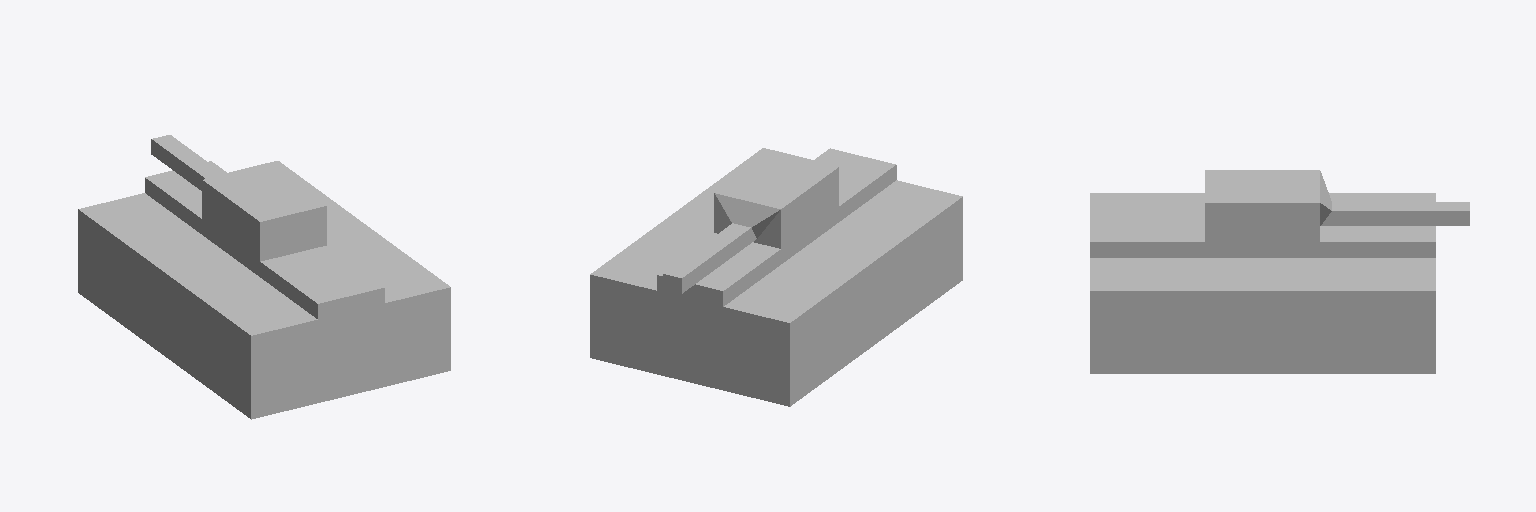
Rendered from Tank.obj.
3 renders of one model, left to right at view 1: azimuth 30°, elevation 25°; view 2: azimuth 150°, elevation 25°; view 3: azimuth 270°, elevation 25°, orthographic.
Visible parts, largest first — view 1: Tank_Cube.001; view 2: Tank_Cube.001; view 3: Tank_Cube.001.
Boxes of the visible parts, <box> form: Tank_Cube.001: <box>78,135,450,419</box>; Tank_Cube.001: <box>590,148,962,406</box>; Tank_Cube.001: <box>1090,170,1469,373</box>.
Bounding box in the file's own units: 0.8 × 0.5316 × 1.32.